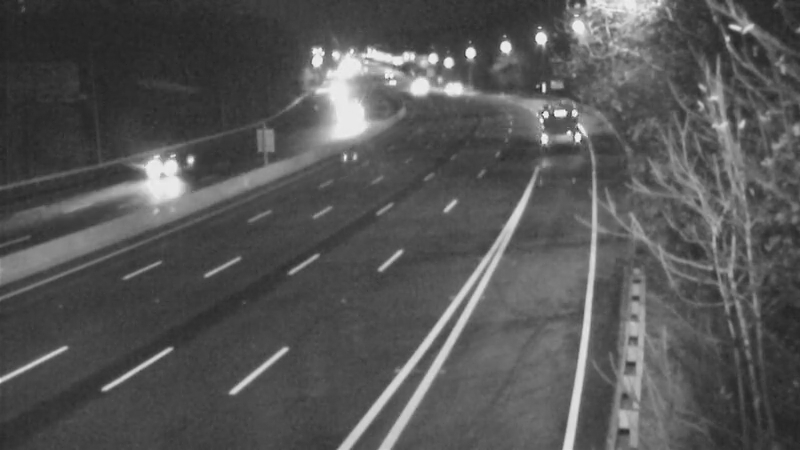vehicle: (127, 122, 207, 202), (365, 49, 415, 99), (398, 54, 448, 104), (394, 62, 444, 112), (430, 60, 480, 110), (396, 63, 446, 113), (529, 100, 579, 150), (331, 81, 381, 131), (311, 59, 361, 109)
